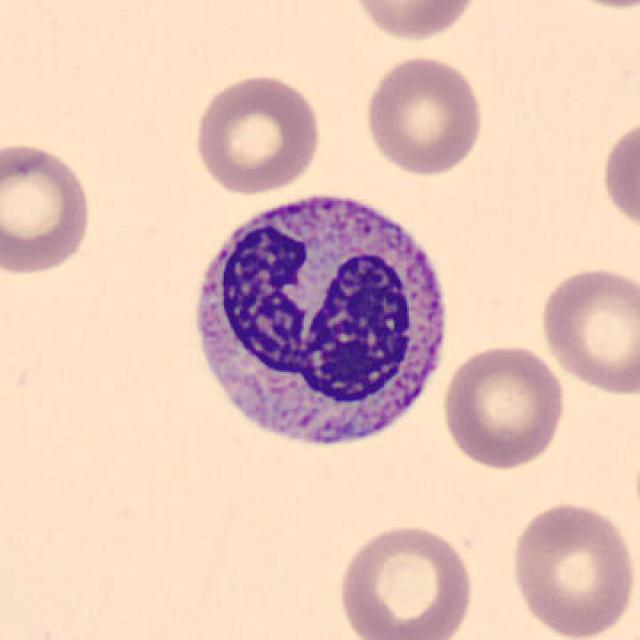Neutrophil: (178, 176, 458, 471)
RBC: (505, 497, 636, 640), (188, 70, 326, 198), (332, 520, 478, 640), (437, 340, 569, 472), (361, 51, 487, 178), (535, 261, 638, 398), (0, 136, 96, 278), (345, 0, 485, 44), (598, 111, 638, 240), (544, 0, 640, 14)
